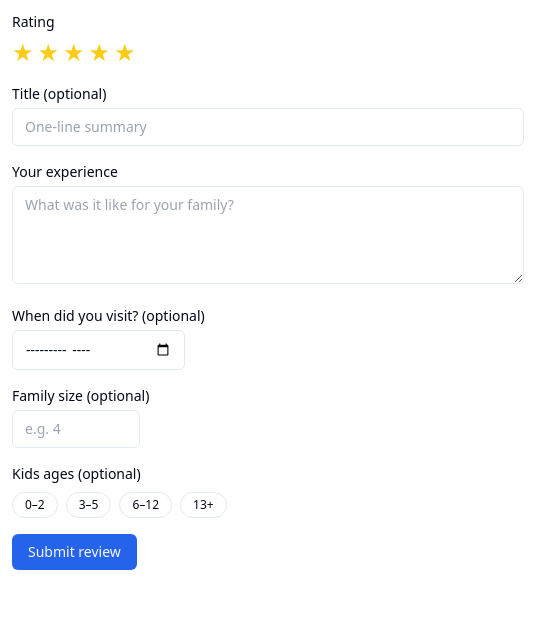
Test: ReviewForm › shows error message after failed submission
In the text box with placeholder "What was it like for your family?": (268, 235) [12,186,524,284], type "My review"
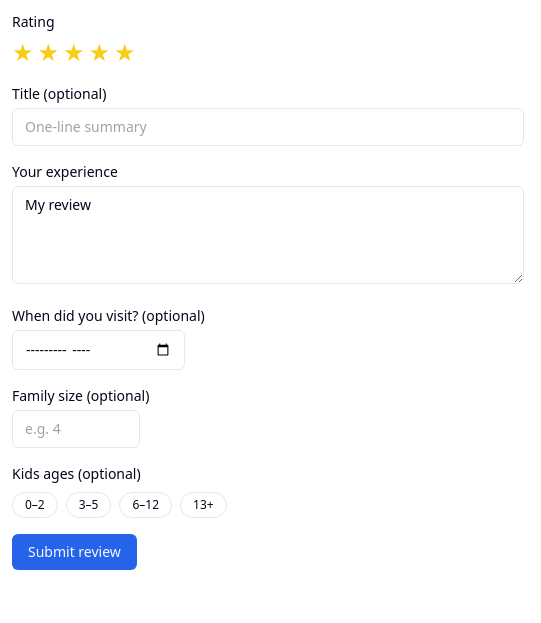
Click the button "Submit review": (74, 552) [12,534,137,570]
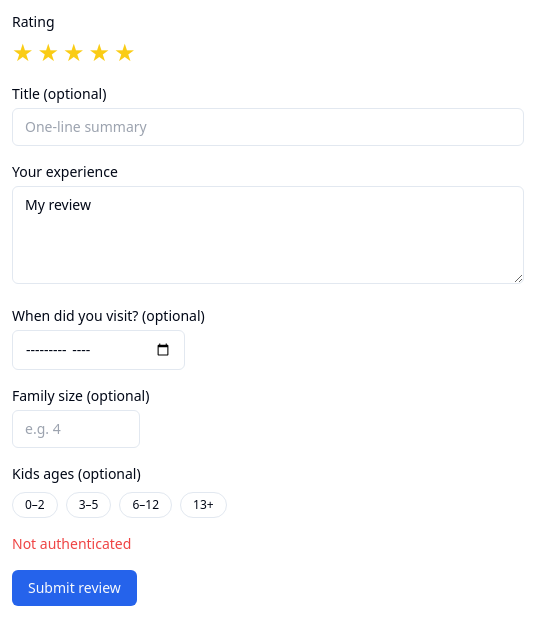
Check: the text "Not authenticated" is shown, box [12,534,131,553]
